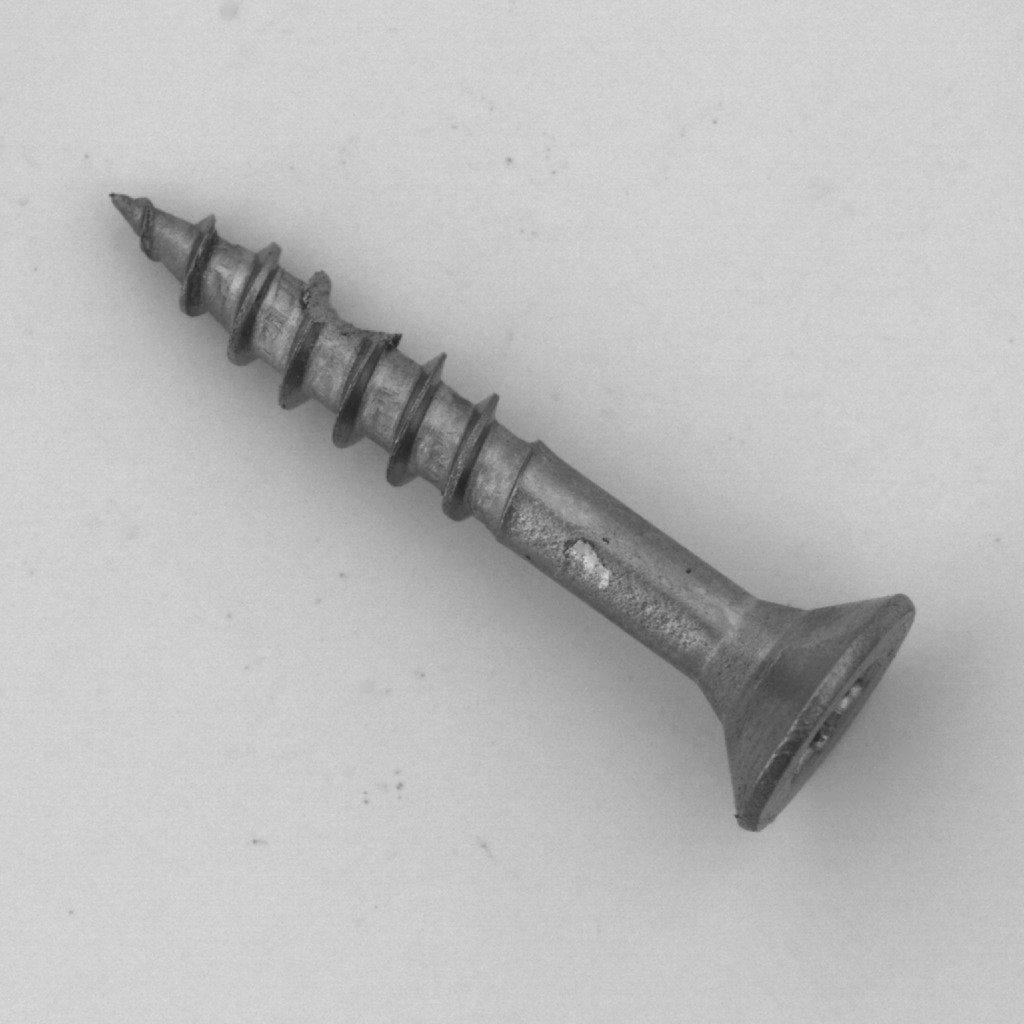manipulated_front: (60, 656, 226, 811)
